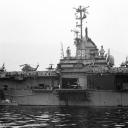Portanaves: (2, 7, 128, 108)
